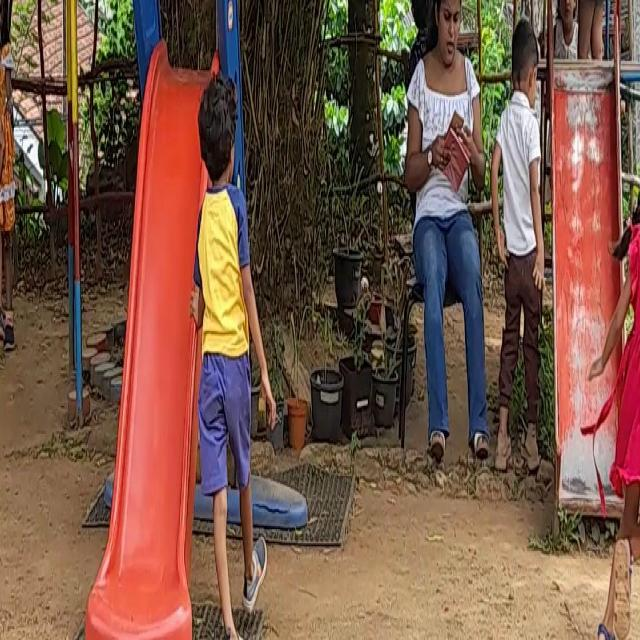adult: (399, 0, 484, 460)
child: (194, 84, 260, 640), (494, 30, 549, 490), (605, 111, 640, 640), (562, 0, 614, 53)
